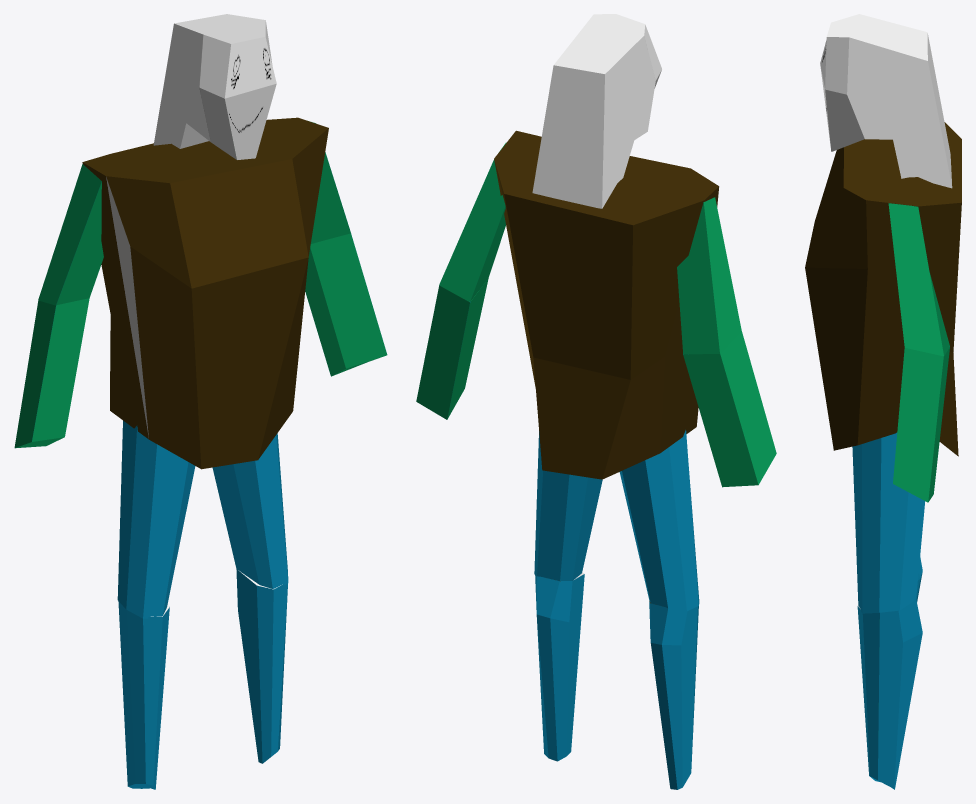
File: LEG.obj
3 views of the same model, side by side, from view 1: azimuth 30°, elevation 25°; view 2: azimuth 150°, elevation 25°; view 3: azimuth 270°, elevation 25° (orthographic). The views are drawn at different scales.
Parts seen in each view (by area): view 1: LEG.001; view 2: LEG.001; view 3: LEG.001.
Part boxes in pixels (bbox=[...]): LEG.001: bbox=[14, 14, 387, 789]; LEG.001: bbox=[416, 14, 776, 789]; LEG.001: bbox=[805, 14, 961, 789].
Bounding box in the file's own units: 2.12 × 4.33 × 0.8282.
Materials: 1 (1 with a texture image).
